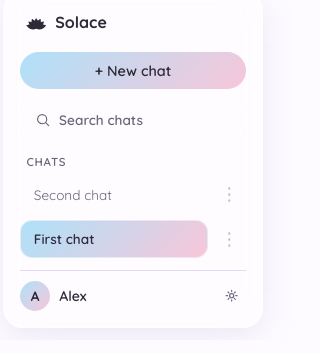
Scenario: Sidebar › search › clears the query and closes when the close button is clicked
Click the button "Search chats" at (133, 120), box [20,101,246,138]
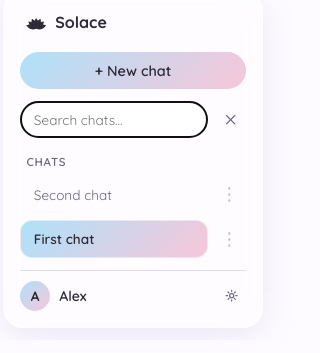
Type "second" into the field labelled "Search chats" at (114, 120), box [20,101,208,138]
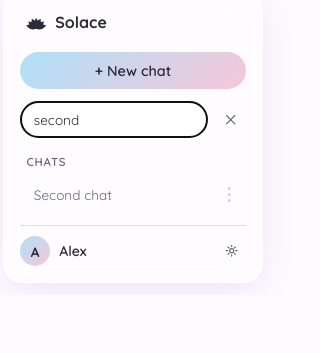
Click the button named "Close search" at (230, 119), box [215,105,246,134]
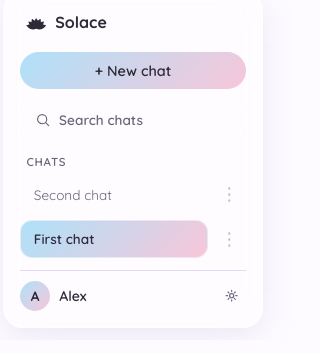
Expected: the button "Second chat" is shown, [20,175,208,213]
Expected: the button "First chat" is shown, [20,220,208,258]
